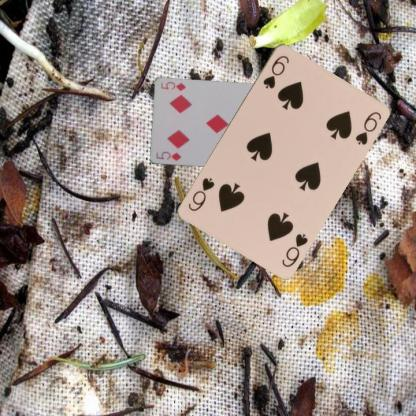5d: (154, 149, 182, 162)
6s: (260, 52, 291, 90), (279, 231, 309, 268)
